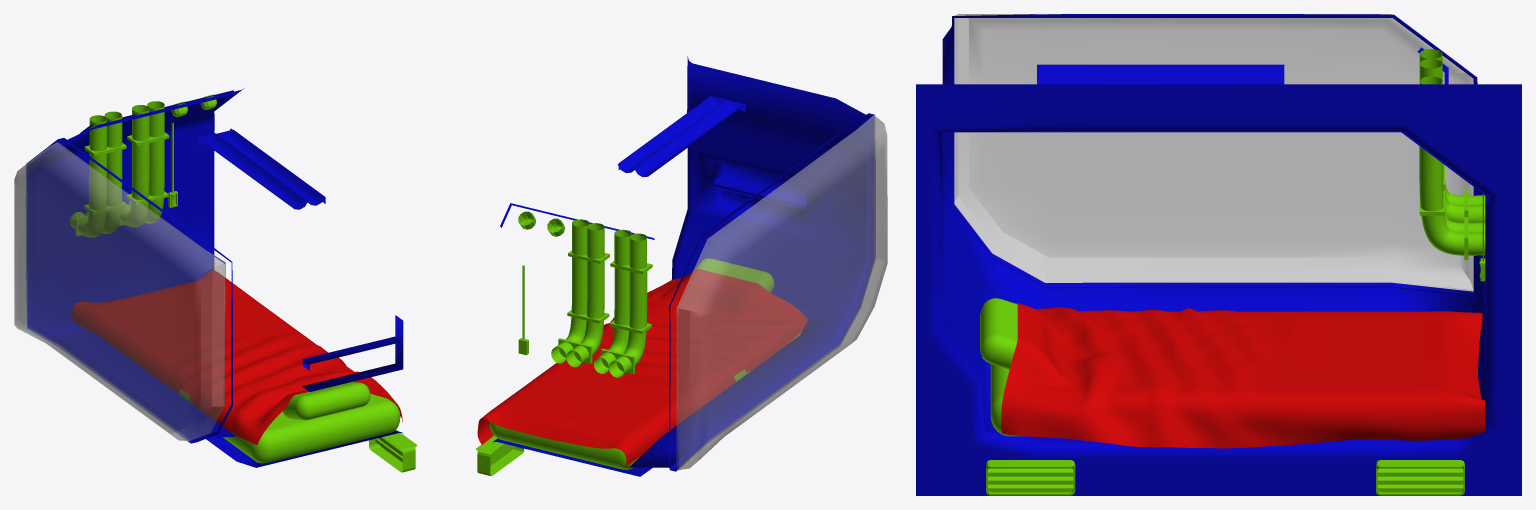
Rendered from SM_CubicleBedV2.fbx.
3 views of the same model, side by side, from view 1: azimuth 30°, elevation 25°; view 2: azimuth 150°, elevation 25°; view 3: azimuth 270°, elevation 25° (orthographic). The views are drawn at different scales.
Parts seen in each view (by area): view 1: polySurface447; view 2: polySurface447; view 3: polySurface447.
Part boxes in pixels (<box>): polySurface447: <box>14,88,417,472</box>; polySurface447: <box>476,56,887,476</box>; polySurface447: <box>916,14,1521,495</box>.
Size of the model in its own units: 233 by 300 by 400.
